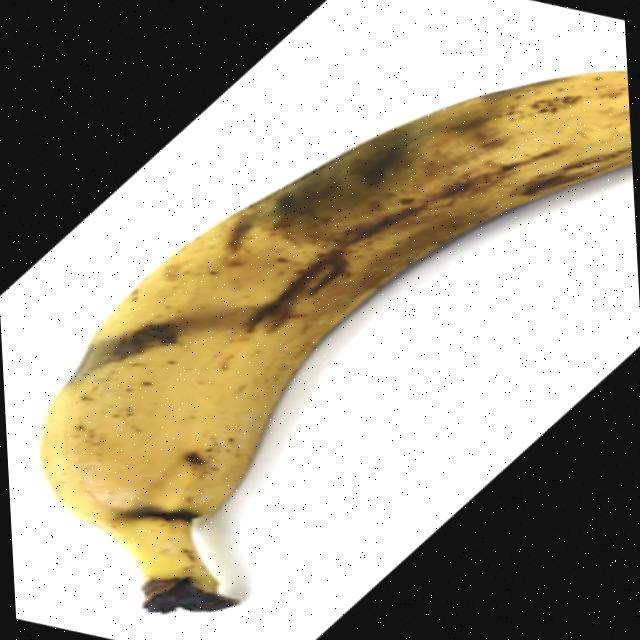overripe: (9, 64, 640, 624)
